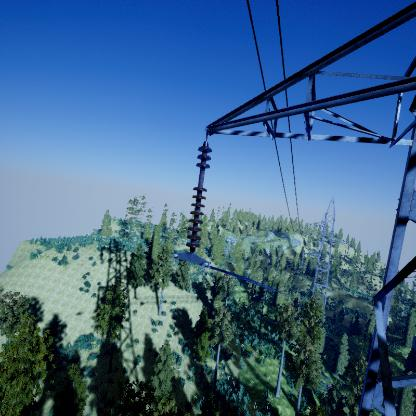insulator: (184, 145, 213, 253)
tower: (303, 197, 347, 302)
